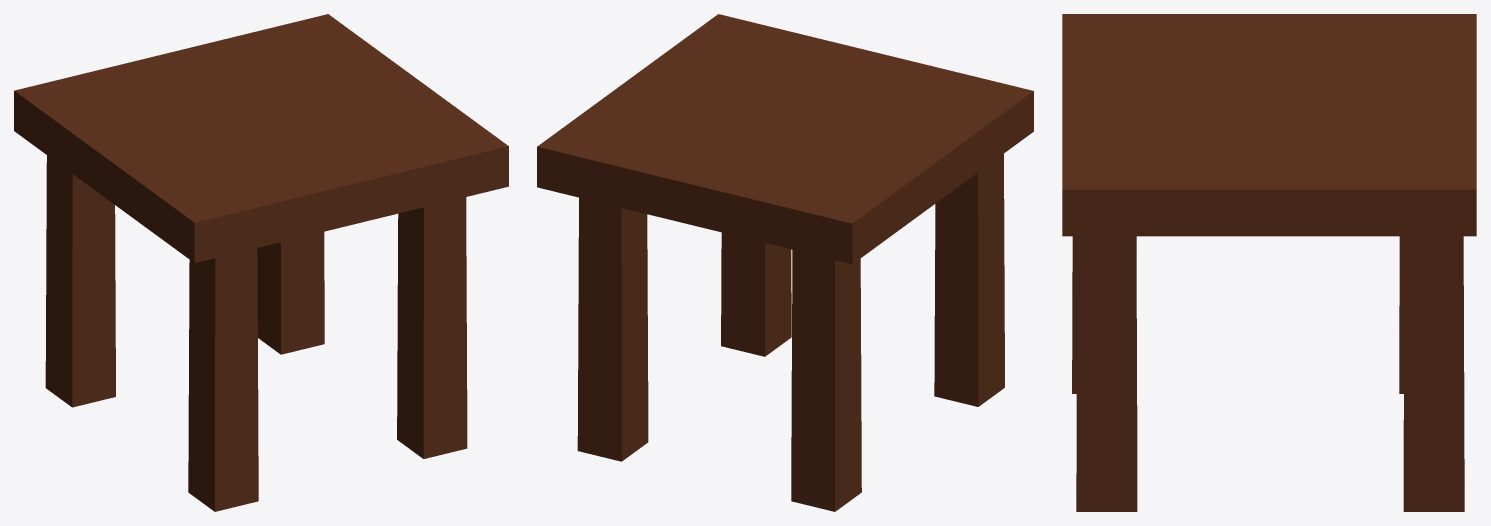
File: prop_chair_wood.glb
3 renders of one model, left to right at view 1: azimuth 30°, elevation 25°; view 2: azimuth 150°, elevation 25°; view 3: azimuth 270°, elevation 25°, orthographic. The views are drawn at different scales.
Parts seen in each view (by area): view 1: Props with out snow_Chair wood_0; view 2: Props with out snow_Chair wood_0; view 3: Props with out snow_Chair wood_0.
Part boxes in pixels (<box>): Props with out snow_Chair wood_0: <box>14,14,508,511</box>; Props with out snow_Chair wood_0: <box>537,14,1033,511</box>; Props with out snow_Chair wood_0: <box>1062,14,1476,511</box>.
Size of the model in its own units: 1.34 by 1.22 by 1.34.
